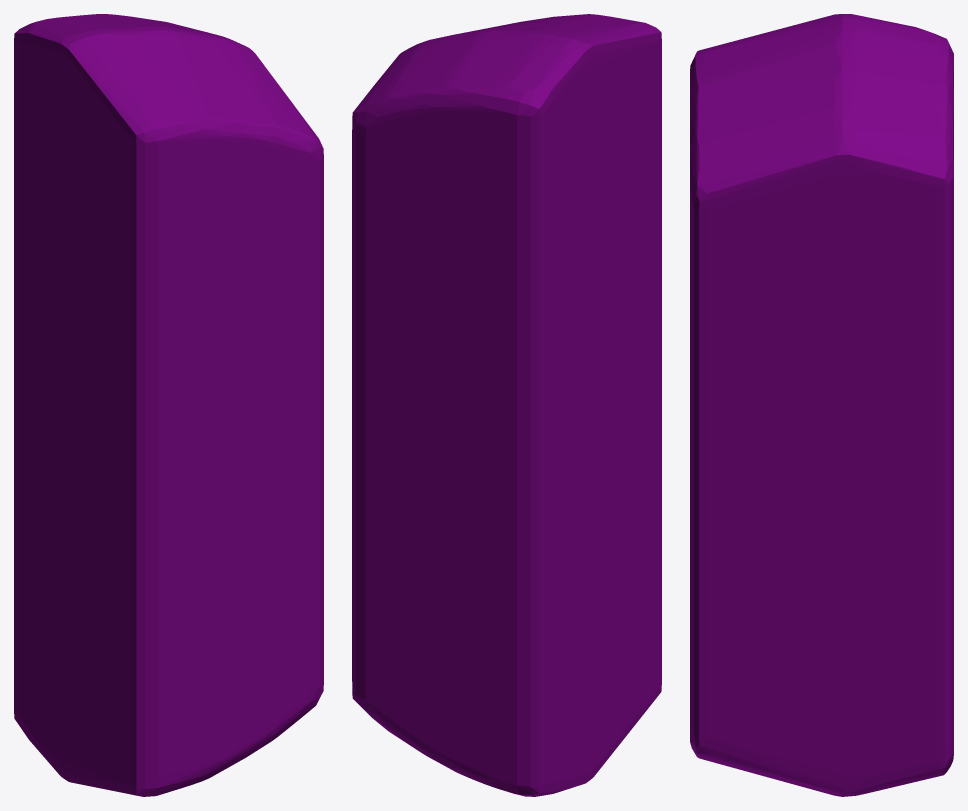
The model's file is right_forearm_collision_part_11.obj.
3 views of the same model, side by side, from view 1: azimuth 30°, elevation 25°; view 2: azimuth 150°, elevation 25°; view 3: azimuth 270°, elevation 25° (orthographic).
Size of the model in its own units: 40.1 by 151 by 48.43.
